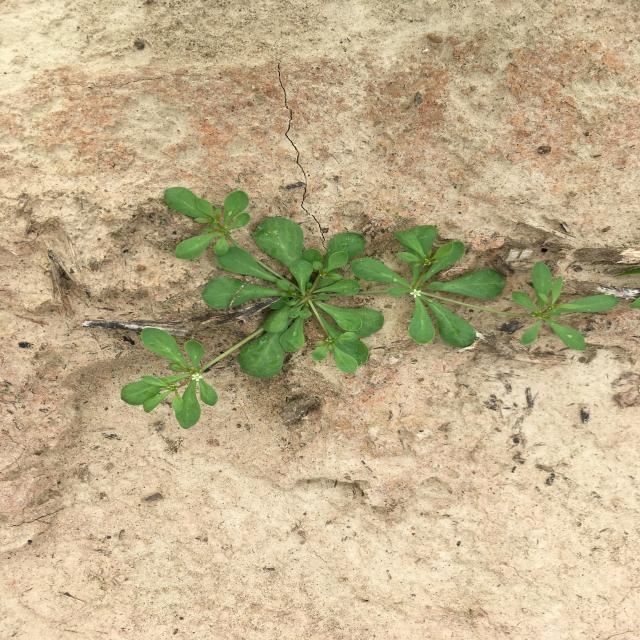Carpetweed: (120, 186, 620, 429)
